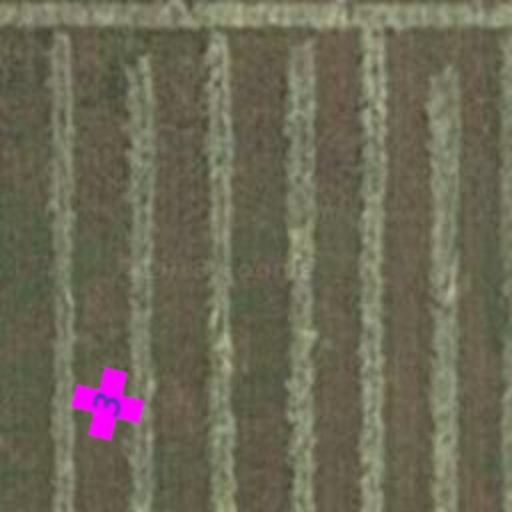cross: (64, 360, 152, 448)
